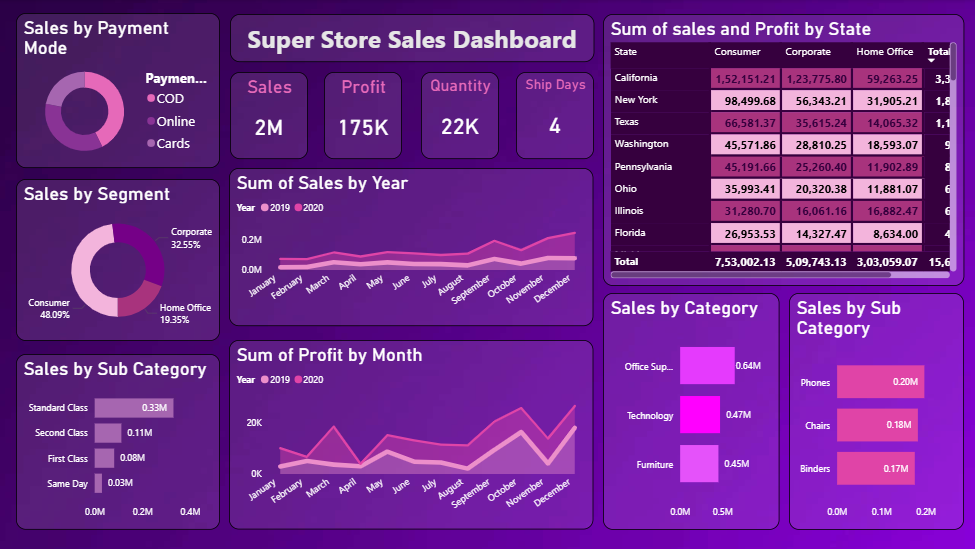

What the dashboard file says about the page in this screenshot:
{"tool":"powerbi","page":{"name":"Page 1","canvas":[1280,720],"ordinal":0},"visuals":[{"type":"clusteredBarChart","title":" Sales by Category","fields":{"Category":["Table1.Category"],"Y":["Sum(Table1.Sales)"]},"box":[790.5,385,230.7,310],"z":0},{"type":"clusteredBarChart","title":" Sales by Sub Category","fields":{"Category":["Table1.Sub-Category"],"Y":["Sum(Table1.Sales)"]},"box":[1034.4,385,229.2,310],"z":1000},{"type":"clusteredBarChart","title":" Sales by Sub Category","fields":{"Category":["Table1.Ship Mode"],"Y":["Sum(Table1.Sales)"]},"box":[21.7,465,266.7,230],"z":2000},{"type":"stackedAreaChart","title":"Sum of Sales by Year","fields":{"Category":["Table1.Order Date.Variation.Date Hierarchy.Month","Table1.Order Date.Variation.Date Hierarchy.Day"],"Y":["Sum(Table1.Sales)"],"Series":["Table1.Order Date.Variation.Date Hierarchy.Year"]},"box":[301.7,221.7,476.7,206.7],"z":3000},{"type":"stackedAreaChart","title":"Sum of Profit by Month","fields":{"Category":["Table1.Order Date.Variation.Date Hierarchy.Month","Table1.Order Date.Variation.Date Hierarchy.Day"],"Y":["Sum(Table1.Profit)"],"Series":["Table1.Order Date.Variation.Date Hierarchy.Year"]},"box":[301.7,446.7,476.7,248.3],"z":4000},{"type":"pivotTable","title":"Sum of sales and Profit by State","fields":{"Rows":["Table1.State"],"Values":["Sum(Table1.Sales)"],"Columns":["Table1.Segment"]},"box":[790.5,19.1,473.1,355.6],"z":5000},{"type":"donutChart","title":"Sales by Segment","fields":{"Category":["Table1.Segment"],"Y":["Sum(Table1.Sales)"]},"box":[21.7,235,266.7,211.7],"z":6000},{"type":"donutChart","title":"Sales by Payment Mode","fields":{"Category":["Table1.Payment Mode"],"Y":["Sum(Table1.Sales)"]},"box":[21.7,18.3,266.7,203.3],"z":7000},{"type":"card","title":"Sales","fields":{"Values":["Sum(Table1.Sales)"]},"box":[302,96,102,114],"z":8000},{"type":"card","title":"Profit","fields":{"Values":["Sum(Table1.Profit)"]},"box":[425,96,102,114],"z":9000},{"type":"card","title":"Quantity","fields":{"Values":["Sum(Table1.Quantity)"]},"box":[552,96,102,114],"z":10000},{"type":"card","title":"Ship Days","fields":{"Values":["Avg(Table1.avgdelivery)"]},"box":[677,96,102,114],"z":11000},{"type":"textbox","box":[302,19,477,63],"z":12000}]}

Visuals, with their boxes in screenshot pixels (x1, y1, x2, y2), scaled from the page's 1280x720 canvas onto the 975x549 screenshot:
" Sales by Category" clusteredBarChart: <region>602, 294, 778, 530</region>
" Sales by Sub Category" clusteredBarChart: <region>788, 294, 963, 530</region>
" Sales by Sub Category" clusteredBarChart: <region>17, 355, 220, 530</region>
"Sum of Sales by Year" stackedAreaChart: <region>230, 169, 593, 327</region>
"Sum of Profit by Month" stackedAreaChart: <region>230, 341, 593, 530</region>
"Sum of sales and Profit by State" pivotTable: <region>602, 15, 963, 286</region>
"Sales by Segment" donutChart: <region>17, 179, 220, 341</region>
"Sales by Payment Mode" donutChart: <region>17, 14, 220, 169</region>
"Sales" card: <region>230, 73, 308, 160</region>
"Profit" card: <region>324, 73, 401, 160</region>
"Quantity" card: <region>420, 73, 498, 160</region>
"Ship Days" card: <region>516, 73, 593, 160</region>
textbox: <region>230, 14, 593, 63</region>
